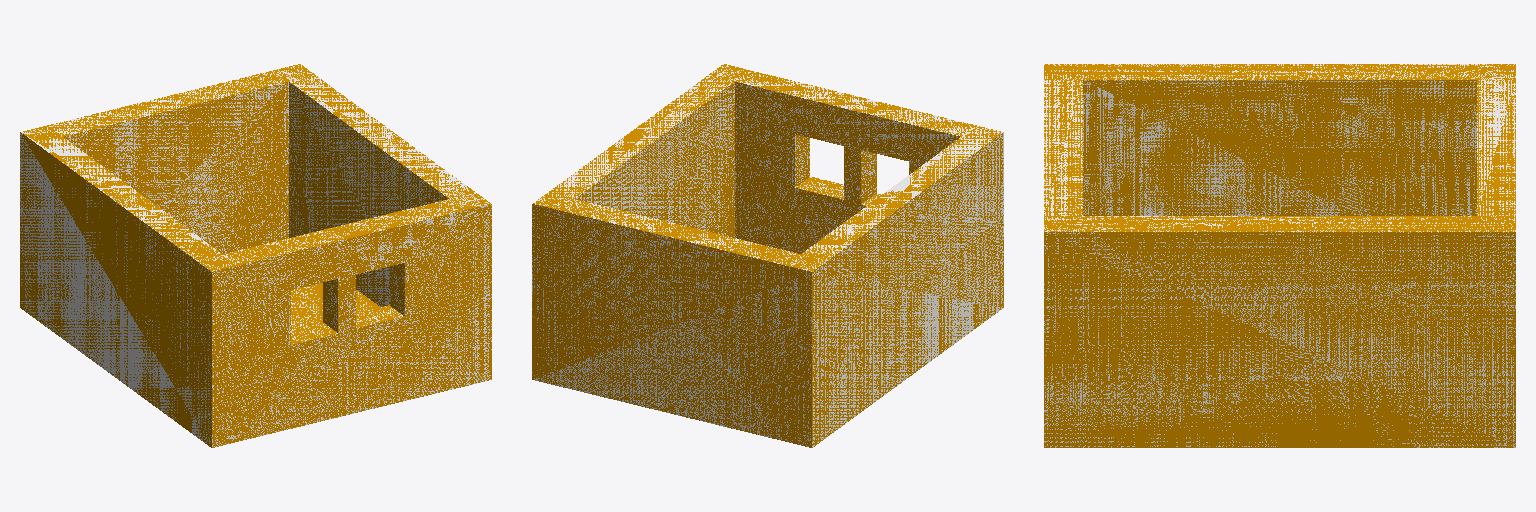
URDF robot description (my_object):
<?xml version="1.0" ?>
<robot name="my_object" static="true">
  <link name="base_link">
  <inertial>
    <mass value="0.585" />
    <origin xyz="0 0 0.0" />
    <inertia ixx="1.0" ixy="0.0" ixz="0.0" iyy="1.0" iyz="0.0" izz="1.0"/>
  </inertial>
  <visual>
   <origin xyz="0 0 0.0" rpy="0 0 0" />
   <geometry>
     <mesh filename="package://cob_gazebo_objects/Media/models/box_wicker.dae"/>
   </geometry>
  </visual>
  <collision>
   <origin xyz="0 0 0" rpy="0 0 0" />
   <geometry>
     <box size="0.24 0.285 0.145" />
   </geometry>
  </collision>
  </link>

<gazebo>
	<static>true</static>
</gazebo>
</robot>

--- Render facts (derived) ---
The picture shows the robot from 3 angles, left to right: view 1: azimuth 30°, elevation 25°; view 2: azimuth 150°, elevation 25°; view 3: azimuth 270°, elevation 25°; orthographic projection.
Model my_object with 1 links and 0 joints (none), rooted at base_link, posed all joints at 0.
Links seen in each view (by area): view 1: base_link; view 2: base_link; view 3: base_link.
Boxes of the visible links, bbox=[...] form: base_link: bbox=[20, 64, 491, 447]; base_link: bbox=[532, 64, 1003, 447]; base_link: bbox=[1044, 64, 1515, 447].
Size in the robot's own frame: 0.2403 by 0.2845 by 0.1446 metres.
1 mesh visuals loaded from 1 distinct referenced files (1 Collada DAE).